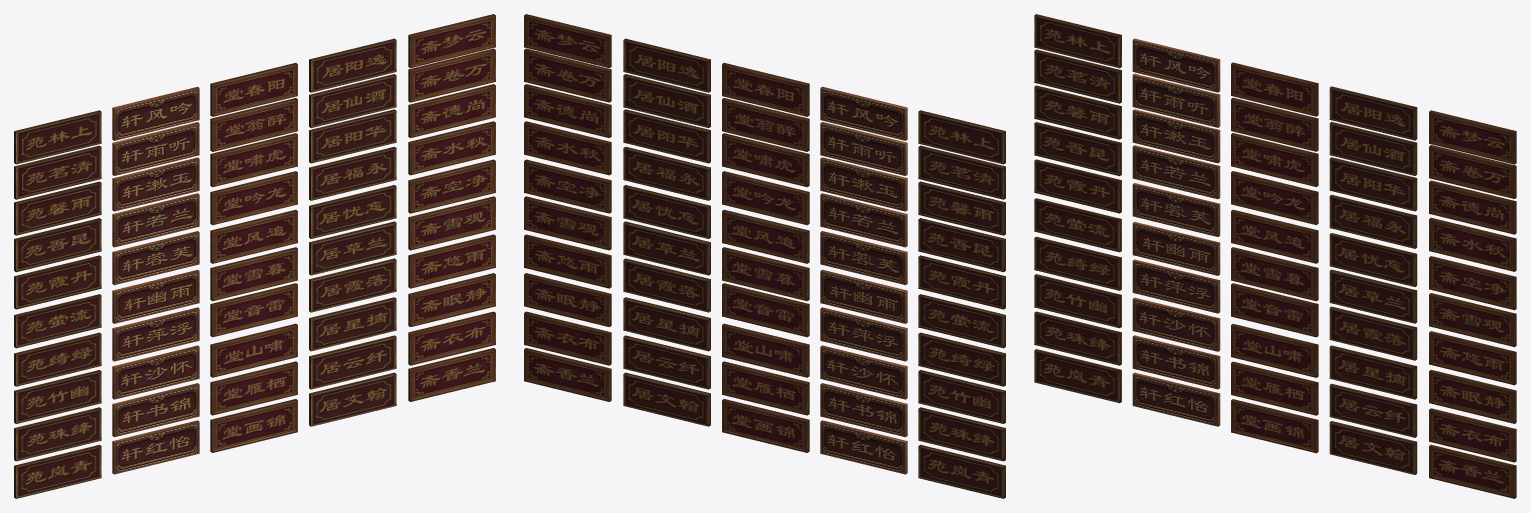
Rendered from s7_unioncity_paibian_01.FBX.
3 views of the same model, side by side, from view 1: azimuth 30°, elevation 25°; view 2: azimuth 150°, elevation 25°; view 3: azimuth 330°, elevation 25° (orthographic).
Parts seen in each view (by area): view 1: s7_unioncity_minju_paibian_03, s7_unioncity_minju_paibian_14, s7_unioncity_minju_paibian_34, s7_unioncity_minju_paibian_23, s7_unioncity_minju_paibian_30, s7_unioncity_minju_paibian_35, s7_unioncity_minju_paibian_17, s7_unioncity_minju_paibian_06, s7_unioncity_minju_paibian_02, s7_unioncity_minju_paibian_08, s7_unioncity_minju_paibian_04, s7_unioncity_minju_paibian_11 (+38 smaller); view 2: s7_unioncity_minju_paibian_03, s7_unioncity_minju_paibian_14, s7_unioncity_minju_paibian_34, s7_unioncity_minju_paibian_23, s7_unioncity_minju_paibian_30, s7_unioncity_minju_paibian_35, s7_unioncity_minju_paibian_17, s7_unioncity_minju_paibian_06, s7_unioncity_minju_paibian_02, s7_unioncity_minju_paibian_08, s7_unioncity_minju_paibian_04, s7_unioncity_minju_paibian_11 (+38 smaller); view 3: s7_unioncity_minju_paibian_07, s7_unioncity_minju_paibian_17, s7_unioncity_minju_paibian_02, s7_unioncity_minju_paibian_09, s7_unioncity_minju_paibian_14, s7_unioncity_minju_paibian_19, s7_unioncity_minju_paibian_44, s7_unioncity_minju_paibian_12, s7_unioncity_minju_paibian_04, s7_unioncity_minju_paibian_29, s7_unioncity_minju_paibian_39, s7_unioncity_minju_paibian_32 (+38 smaller).
Part boxes in pixels (left/top/right/bottom): s7_unioncity_minju_paibian_03: left=210, top=63, right=297, bottom=116; s7_unioncity_minju_paibian_14: left=309, top=109, right=396, bottom=163; s7_unioncity_minju_paibian_34: left=309, top=258, right=396, bottom=312; s7_unioncity_minju_paibian_23: left=210, top=209, right=297, bottom=263; s7_unioncity_minju_paibian_30: left=408, top=196, right=495, bottom=250; s7_unioncity_minju_paibian_35: left=408, top=234, right=495, bottom=288; s7_unioncity_minju_paibian_17: left=112, top=193, right=199, bottom=247; s7_unioncity_minju_paibian_06: left=14, top=145, right=101, bottom=199; s7_unioncity_minju_paibian_02: left=112, top=86, right=199, bottom=140; s7_unioncity_minju_paibian_08: left=210, top=98, right=297, bottom=151; s7_unioncity_minju_paibian_04: left=309, top=38, right=396, bottom=92; s7_unioncity_minju_paibian_11: left=14, top=181, right=101, bottom=235; s7_unioncity_minju_paibian_03: left=722, top=63, right=809, bottom=116; s7_unioncity_minju_paibian_14: left=623, top=109, right=710, bottom=163; s7_unioncity_minju_paibian_34: left=623, top=258, right=710, bottom=312; s7_unioncity_minju_paibian_23: left=722, top=209, right=809, bottom=263; s7_unioncity_minju_paibian_30: left=524, top=196, right=611, bottom=250; s7_unioncity_minju_paibian_35: left=524, top=234, right=611, bottom=288; s7_unioncity_minju_paibian_17: left=820, top=193, right=907, bottom=247; s7_unioncity_minju_paibian_06: left=918, top=145, right=1005, bottom=199; s7_unioncity_minju_paibian_02: left=820, top=86, right=907, bottom=140; s7_unioncity_minju_paibian_08: left=722, top=98, right=809, bottom=151; s7_unioncity_minju_paibian_04: left=623, top=38, right=710, bottom=92; s7_unioncity_minju_paibian_11: left=918, top=181, right=1005, bottom=235; s7_unioncity_minju_paibian_07: left=1132, top=73, right=1220, bottom=127; s7_unioncity_minju_paibian_17: left=1132, top=145, right=1220, bottom=199; s7_unioncity_minju_paibian_02: left=1132, top=38, right=1220, bottom=92; s7_unioncity_minju_paibian_09: left=1329, top=121, right=1417, bottom=175; s7_unioncity_minju_paibian_14: left=1329, top=157, right=1417, bottom=211; s7_unioncity_minju_paibian_19: left=1329, top=194, right=1417, bottom=248; s7_unioncity_minju_paibian_44: left=1329, top=383, right=1417, bottom=437; s7_unioncity_minju_paibian_12: left=1132, top=109, right=1220, bottom=163; s7_unioncity_minju_paibian_04: left=1329, top=86, right=1417, bottom=140; s7_unioncity_minju_paibian_29: left=1329, top=269, right=1417, bottom=323; s7_unioncity_minju_paibian_39: left=1329, top=345, right=1417, bottom=399; s7_unioncity_minju_paibian_32: left=1132, top=259, right=1220, bottom=313.
Size of the model in its own units: 19.58 by 14.37 by 0.141.
Materials: 2 (2 with a texture image).
